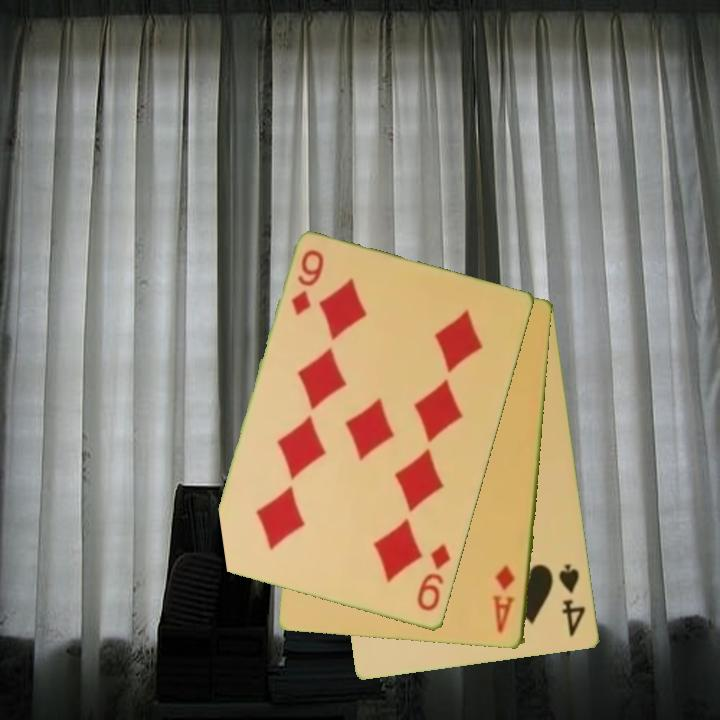4s: (555, 561, 589, 640)
9d: (414, 541, 454, 615), (288, 246, 327, 319)
Ad: (490, 563, 518, 637)
